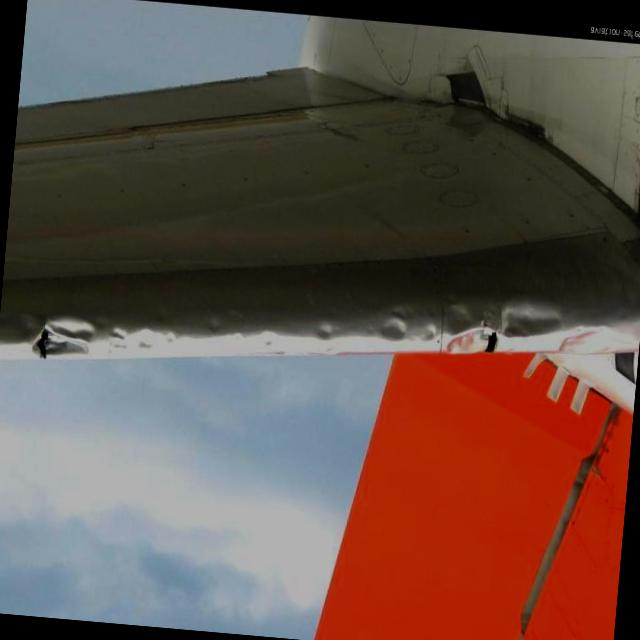dent: (26, 312, 102, 363), (496, 298, 564, 338), (440, 322, 505, 362), (564, 320, 626, 356), (378, 305, 413, 346)
